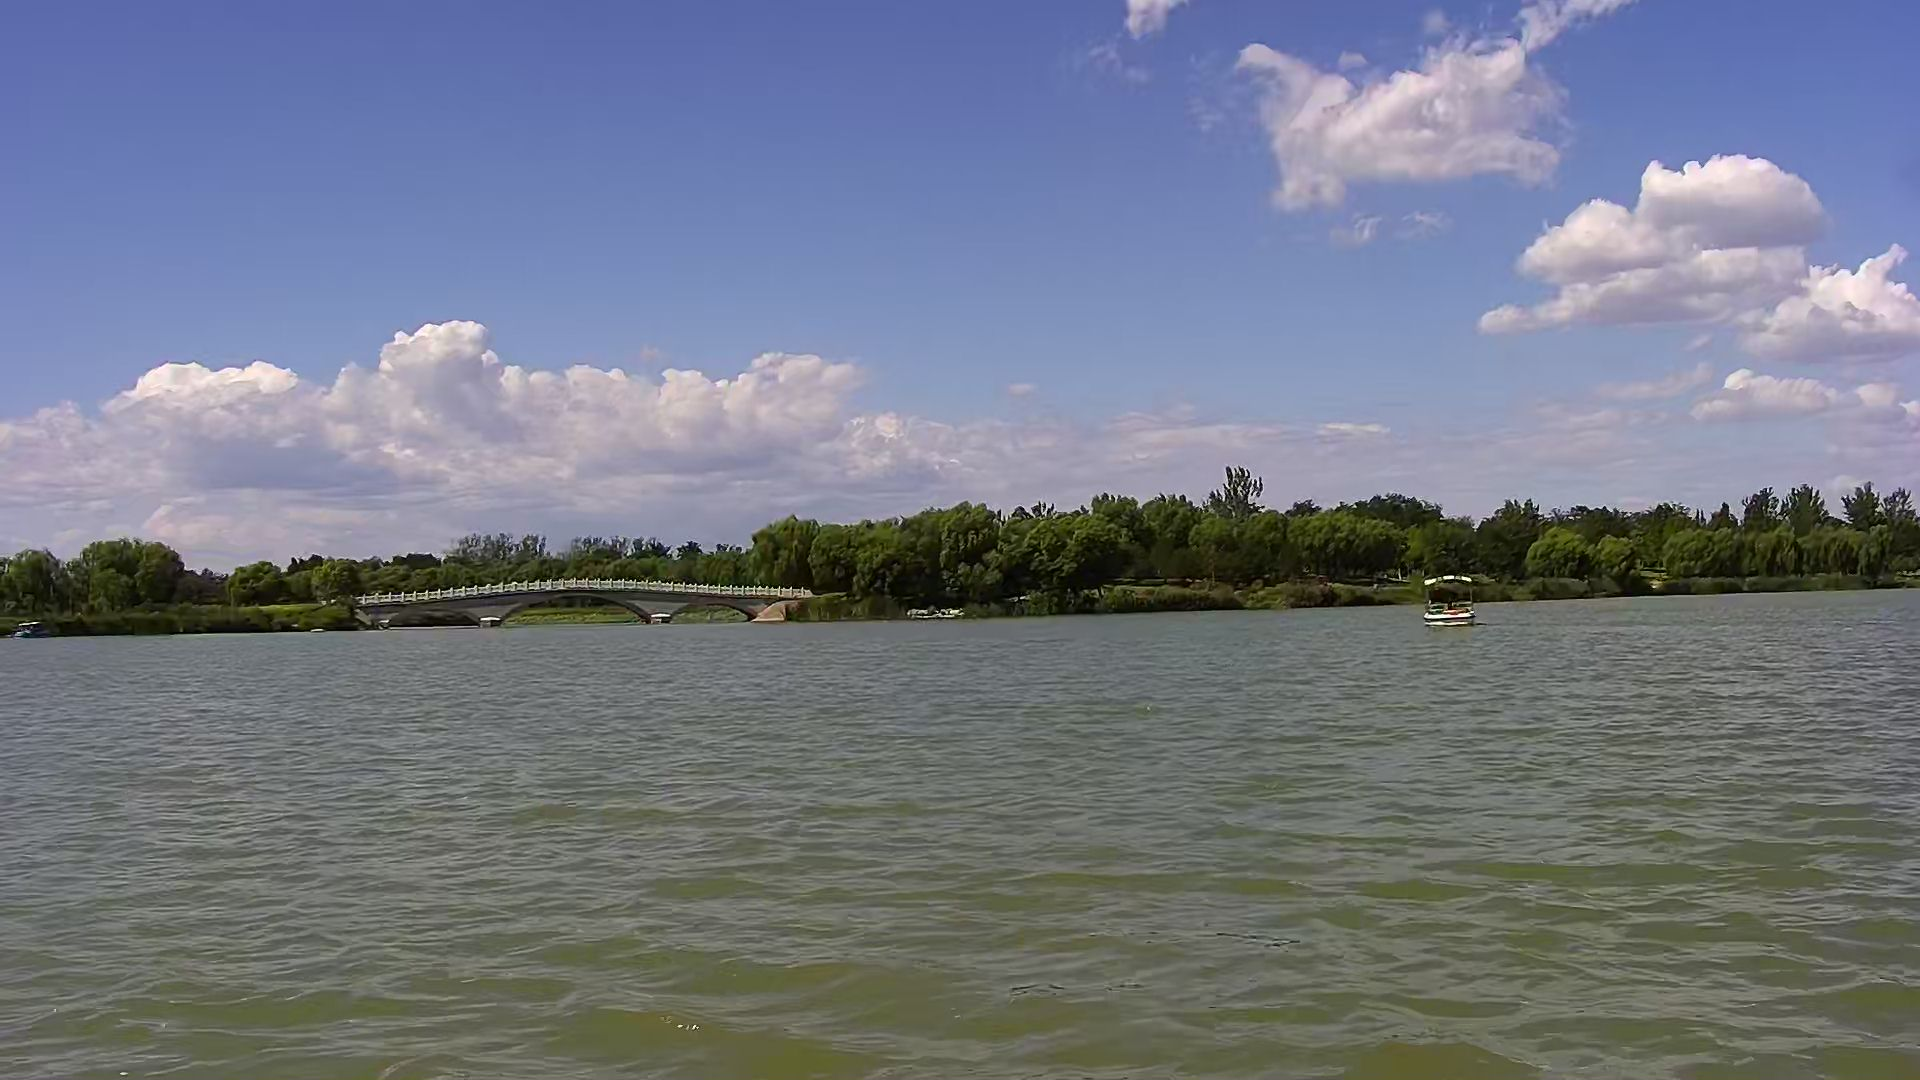boat: (1423, 568, 1476, 628)
bridge: (396, 582, 781, 628)
